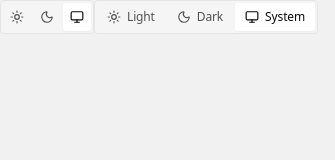
Test: ThemeSwitch › keeps two switches on screen in step
What coordinates should you click on to do the following:
click the radio button named "Light"
I would click on:
 (17, 17)
Its box is [3,3,31,31].
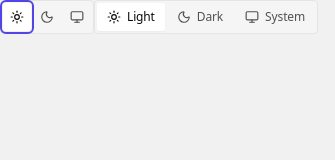
Check: the radio button named "Light" is checked, box [3,3,31,31]
Check: the 4th radio button labelled "Light" is checked, box [97,3,165,31]
